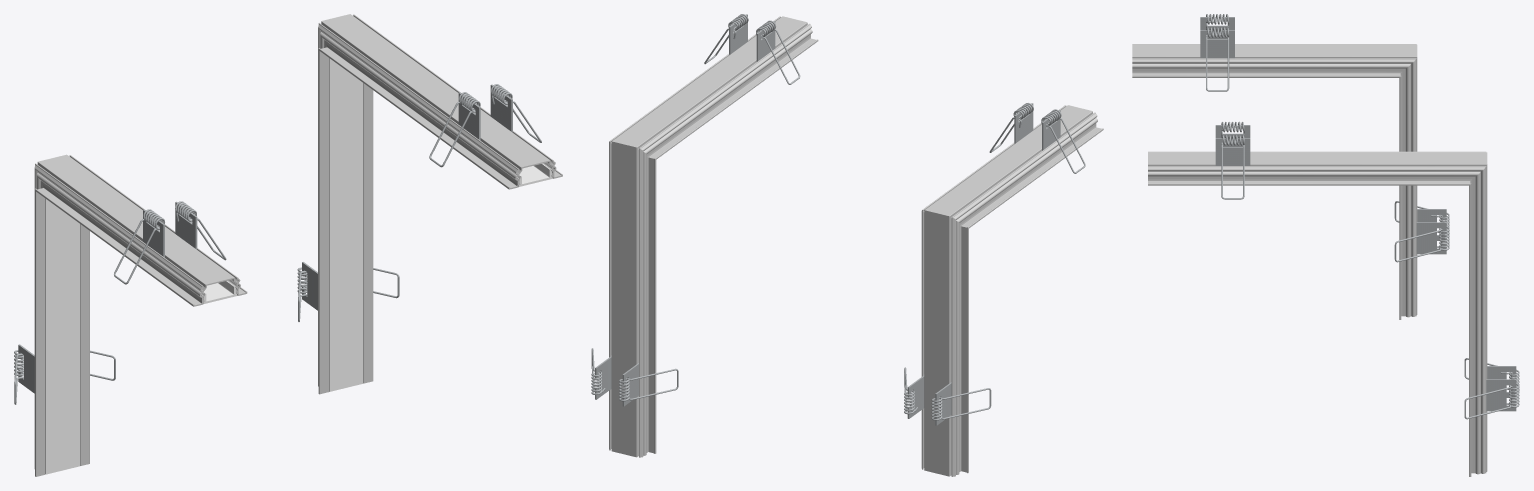
File: Fit25SlimEmbutido-curva-teto-parede.glb
The picture shows the model from 3 angles, left to right: view 1: azimuth 30°, elevation 25°; view 2: azimuth 150°, elevation 25°; view 3: azimuth 270°, elevation 25°; orthographic projection. The views are drawn at different scales.
Parts seen in each view (by area): view 1: 3DGeom-13 (×2), 3DGeom-1 (×2), 3DGeom-15, 3DGeom-3, 3DGeom-17 (×2), 3DGeom-5 (×2), 3DGeom-18, 3DGeom-6; view 2: 3DGeom-13 (×2), 3DGeom-1 (×2); view 3: 3DGeom-13 (×2), 3DGeom-1 (×2), 3DGeom-5 (×2), 3DGeom-17 (×2), 3DGeom-6 (×2), 3DGeom-18 (×2).
Boxes of the visible parts, x1,y1,x2,y2 form: 3DGeom-13 (×2): (318, 14, 562, 394); 3DGeom-1 (×2): (34, 154, 247, 476); 3DGeom-15: (329, 58, 363, 391); 3DGeom-3: (45, 198, 79, 474); 3DGeom-17 (×2): (458, 84, 512, 140); 3DGeom-5 (×2): (143, 201, 197, 257); 3DGeom-18: (429, 92, 480, 167); 3DGeom-6: (114, 209, 164, 284); 3DGeom-13 (×2): (609, 16, 818, 457); 3DGeom-1 (×2): (921, 105, 1103, 476); 3DGeom-13 (×2): (1148, 151, 1487, 476); 3DGeom-1 (×2): (1132, 44, 1417, 319); 3DGeom-5 (×2): (1200, 30, 1446, 254); 3DGeom-17 (×2): (1215, 138, 1516, 411); 3DGeom-6 (×2): (1206, 27, 1449, 262); 3DGeom-18 (×2): (1221, 135, 1519, 419).
Bounding box in the file's own units: 0.3074 × 0.2738 × 0.2852.
Materials: 3 (1 with a texture image).
